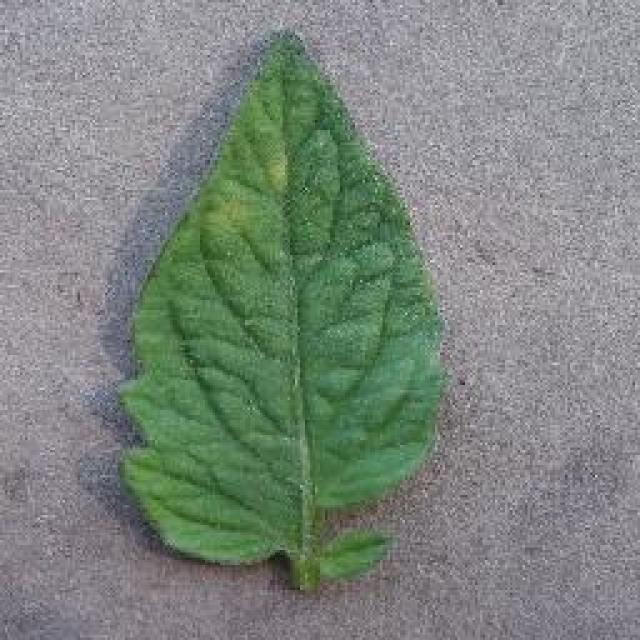Tomato___Leaf_Mold: (120, 30, 442, 590)
